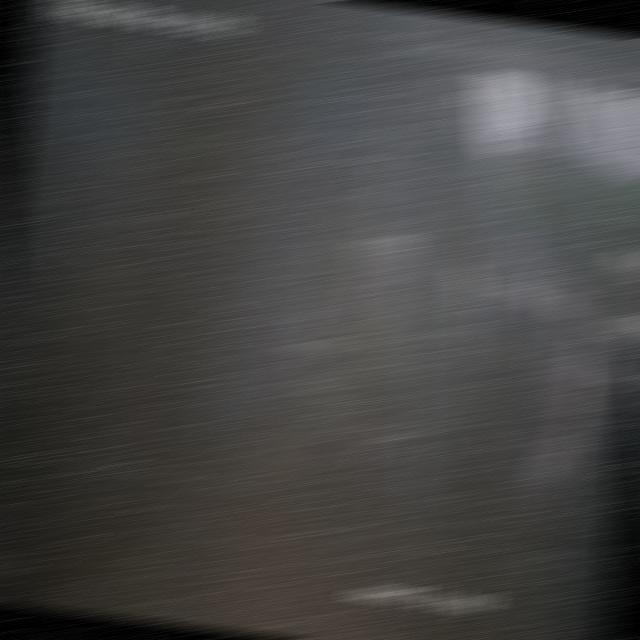cement_mixer_truck: (264, 220, 603, 536)
